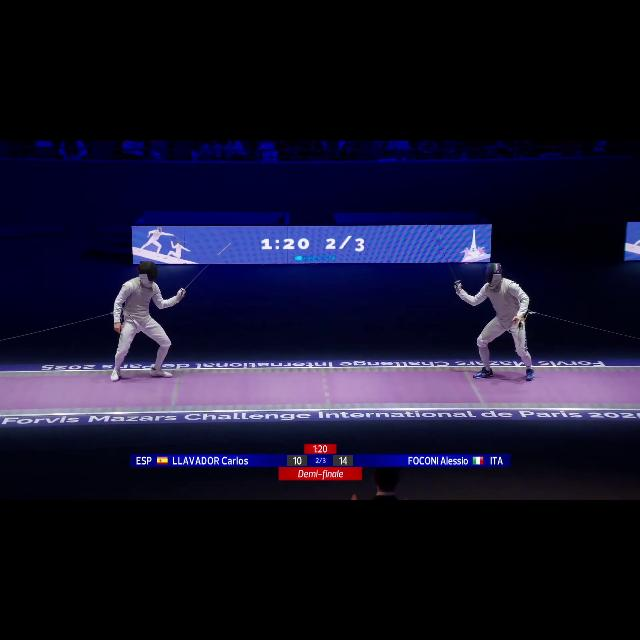blade: (178, 242, 235, 296), (426, 220, 464, 286)
